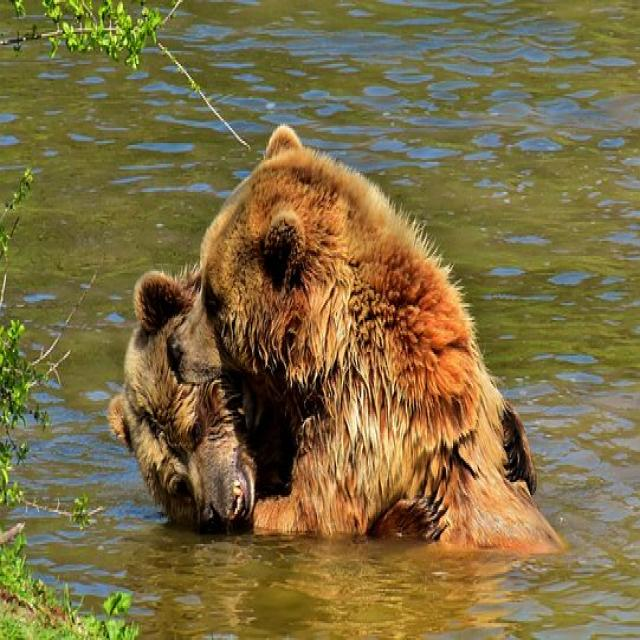Bear: (181, 126, 565, 555), (110, 267, 271, 529)
